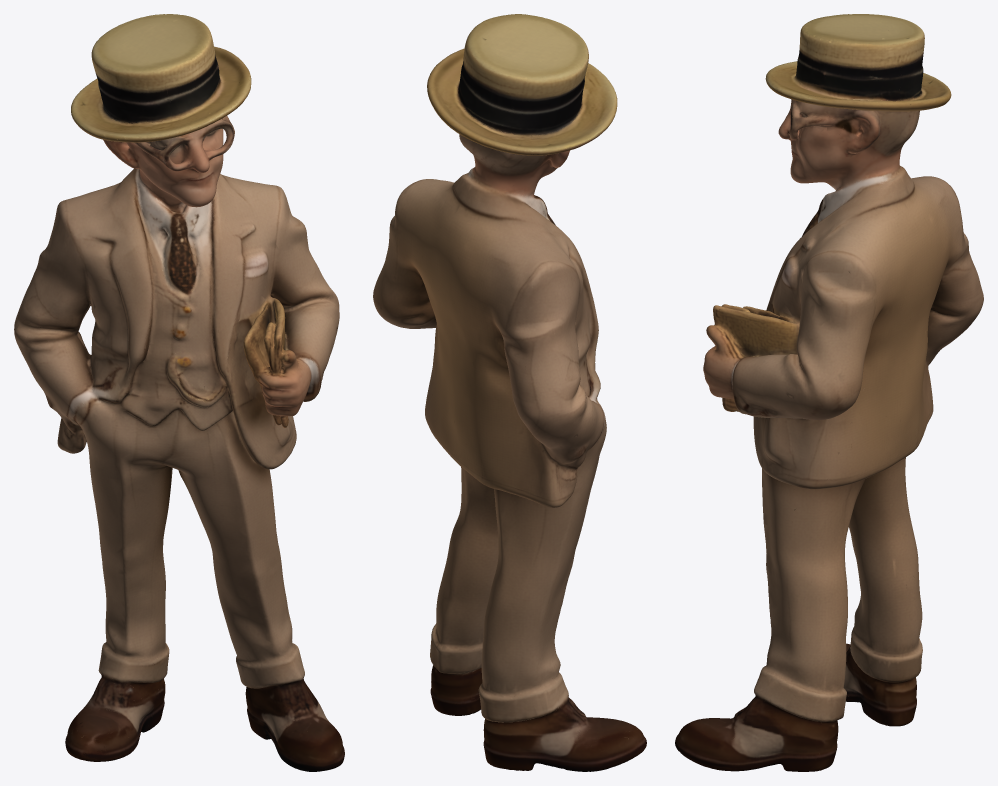
File: lord-livermore.glb
3 renders of one model, left to right at view 1: azimuth 30°, elevation 25°; view 2: azimuth 150°, elevation 25°; view 3: azimuth 270°, elevation 25°, orthographic. The views are drawn at different scales.
Visible parts, largest first — view 1: geometry_0; view 2: geometry_0; view 3: geometry_0.
Part boxes in pixels (x1,y1,x2,y2): geometry_0: (14,14,344,771); geometry_0: (373,14,646,771); geometry_0: (675,14,983,771).
Size of the model in its own units: 0.3923 by 0.9999 by 0.4014.
Materials: 1 (1 with a texture image).
